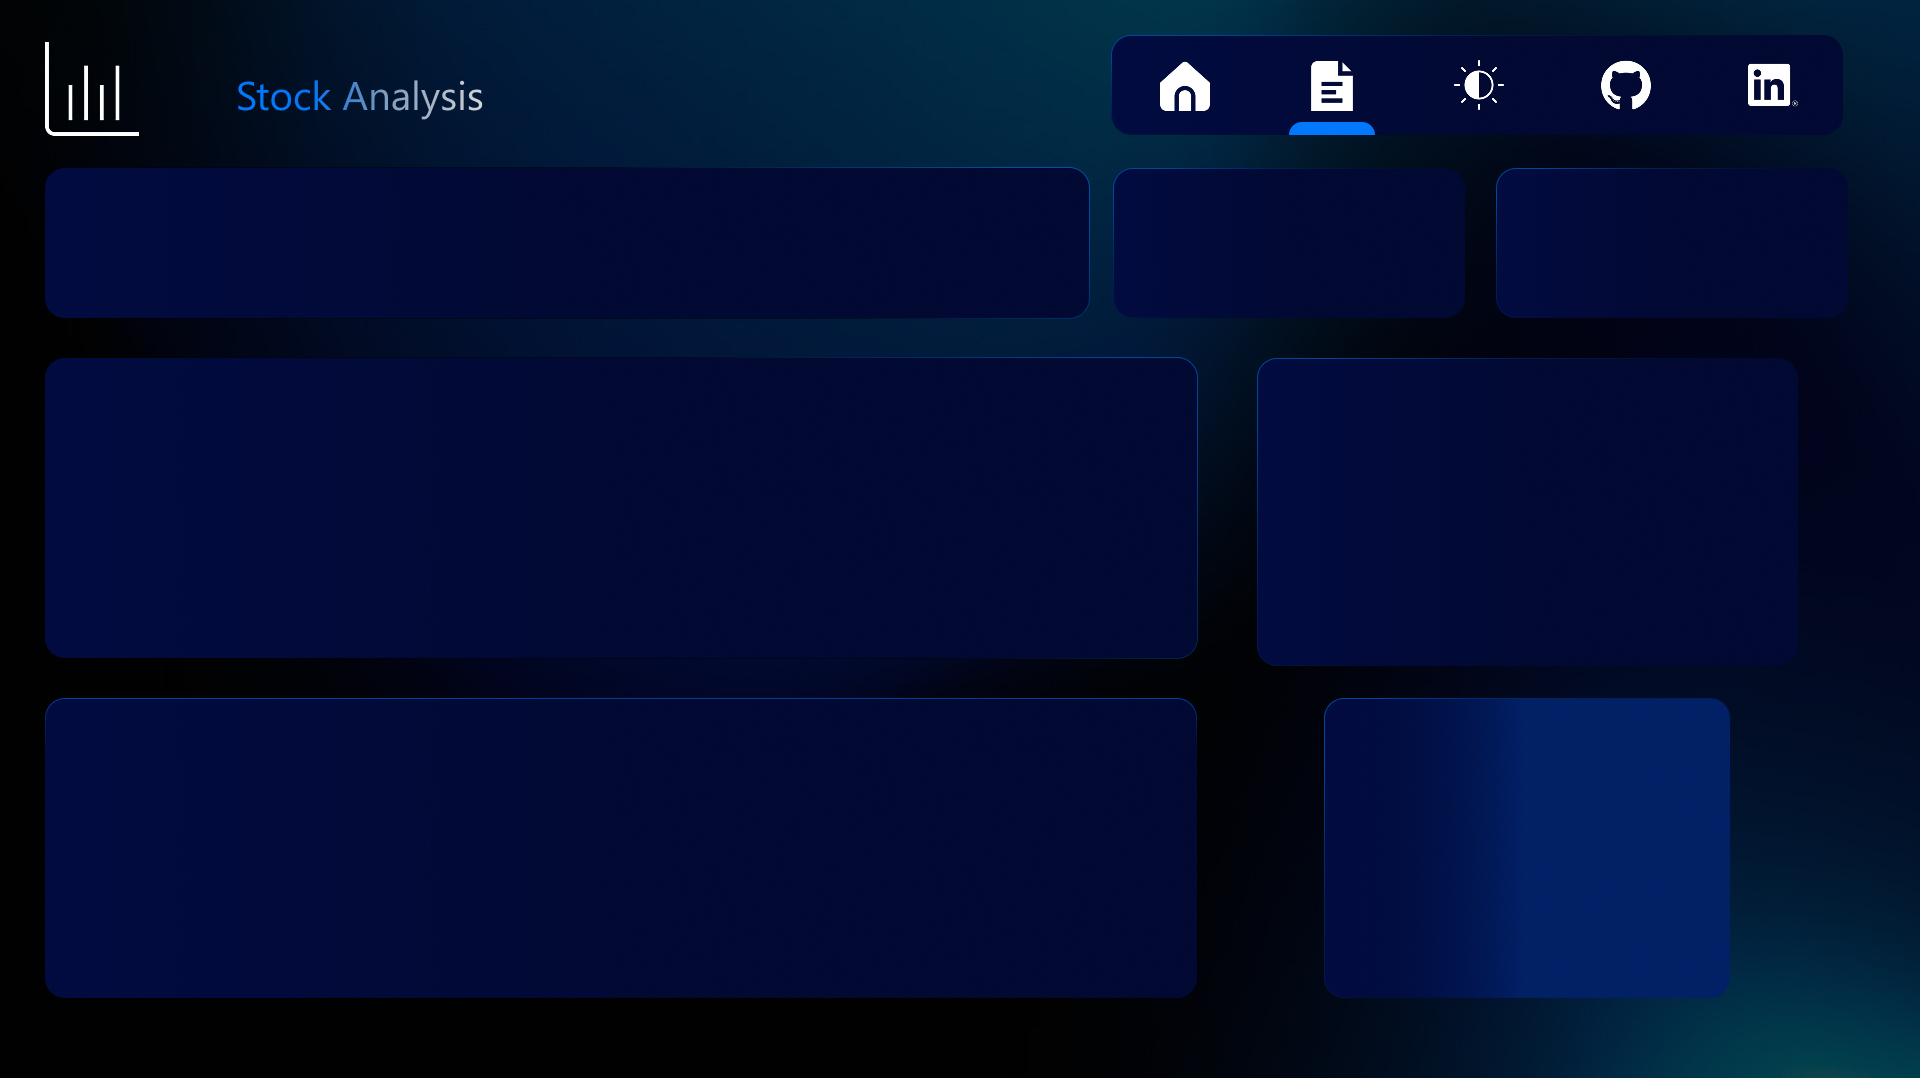

This screenshot's page, from the dashboard's own definition file:
{"tool":"powerbi","page":{"name":"Dashboard/dark","canvas":[1280,720],"ordinal":1},"visuals":[{"type":"kpi","fields":{"TrendLine":["public stockdata.datestock"],"Goal":["public stockdata.Preço Anterior"],"Indicator":["public stockdata.Preço Atual"]},"box":[268.4,113.1,225.3,96.1],"z":0},{"type":"card","title":"Maior Nº de movimentações por Dia","fields":{"Values":["Max(public stockdata.volume)"]},"box":[510.8,117.6,202.9,87.1],"z":1000},{"type":"card","fields":{"Values":["Min(public stockdata.Ações)"]},"box":[56.6,131.1,165.2,60.1],"z":2000},{"type":"stackedAreaChart","title":"Cotação ao Longo do Tempo","fields":{"Y":["Max(public stockdata.closeprice)"],"Category":["public stockdata.datestock"]},"box":[39.5,236.1,767.6,204.7],"z":3000},{"type":"card","title":"P/L","fields":{"Values":["Max(public fundamentalsstockdata.pl)"]},"box":[847.5,244.2,150.8,94.3],"z":4000},{"type":"card","title":"P/VP","fields":{"Values":["Max(public fundamentalsstockdata.pvp)"]},"box":[1055.8,244.2,140,86.2],"z":5000},{"type":"card","title":"ROE","fields":{"Values":["Max(public fundamentalsstockdata.roe)"]},"box":[847.5,346.5,150.8,86.2],"z":6000},{"type":"card","title":"Dividend Yield","fields":{"Values":["Max(public fundamentalsstockdata.dividendyield)"]},"box":[1055.8,346.5,140,86.2],"z":7000},{"type":"areaChart","title":"Volume por Mês","fields":{"Y":["Max(public stockdata.volume)"],"Category":["public stockdata.datestock.Variation.Date Hierarchy.Year","public stockdata.datestock.Variation.Date Hierarchy.Month"]},"box":[33.2,468.6,773.9,190.3],"z":8000},{"type":"slicer","fields":{"Values":["public stockdata.datestock.Variation.Date Hierarchy.Year"]},"box":[1004.6,121.2,217.3,97],"z":9000},{"type":"slicer","fields":{"Values":["public stockimages.symbolstock"]},"box":[748.7,122.1,217.3,96.1],"z":10000},{"type":"ImageGrid_FC5183B9_926C_45E0_B5F7_0CE9EAF1DA9B","fields":{"ImageURL":["public stockimages.linkimage"]},"box":[953.4,493.8,132,139.2],"z":11000},{"type":"actionButton","box":[763.1,33.2,52.1,51.2],"z":12000}]}

Visuals, with their boxes in screenshot pixels (x1, y1, x2, y2), scaled from the page's 1280x720 canvas onto the 1920x1078 screenshot:
kpi - public stockdata.datestock x public stockdata.Preço Anterior: region(403, 169, 741, 313)
"Maior Nº de movimentações por Dia" card: region(766, 176, 1071, 306)
card - Min(public stockdata.Ações): region(85, 196, 333, 286)
"Cotação ao Longo do Tempo" stackedAreaChart: region(59, 353, 1211, 660)
"P/L" card: region(1271, 366, 1497, 507)
"P/VP" card: region(1584, 366, 1794, 495)
"ROE" card: region(1271, 519, 1497, 648)
"Dividend Yield" card: region(1584, 519, 1794, 648)
"Volume por Mês" areaChart: region(50, 702, 1211, 987)
slicer - public stockdata.datestock.Variation.Date Hierarchy.Year: region(1507, 181, 1833, 327)
slicer - public stockimages.symbolstock: region(1123, 183, 1449, 327)
ImageGrid_FC5183B9_926C_45E0_B5F7_0CE9EAF1DA9B - public stockimages.linkimage: region(1430, 739, 1628, 948)
actionButton: region(1145, 50, 1223, 126)
